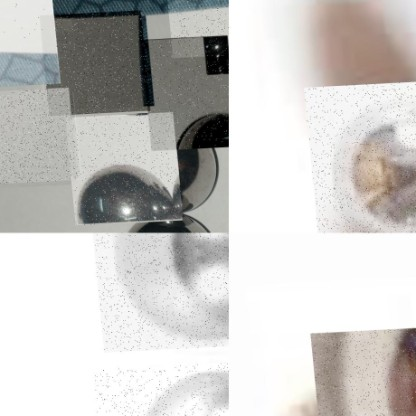ironball: (82, 232, 228, 354), (299, 85, 415, 232), (61, 114, 177, 226), (37, 12, 146, 117), (138, 37, 228, 153), (306, 324, 415, 415), (85, 364, 228, 415), (0, 89, 72, 184), (0, 0, 57, 88), (163, 0, 228, 60)
